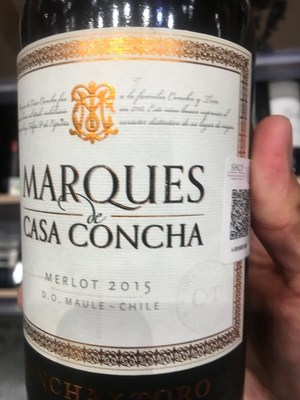marques de casa concha merlot: (10, 1, 255, 389)
